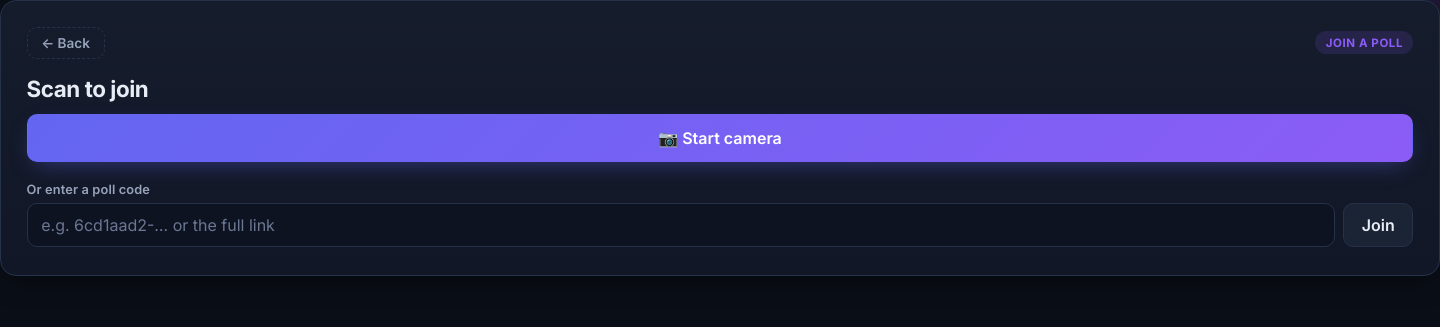
Test: ScanToJoin › shows an error (and keeps the fallback) when camera access is denied
What coordinates should you click on to do the following:
click the button "📷 Start camera"
I would click on:
 (720, 138)
Its box is [27,114,1413,162].
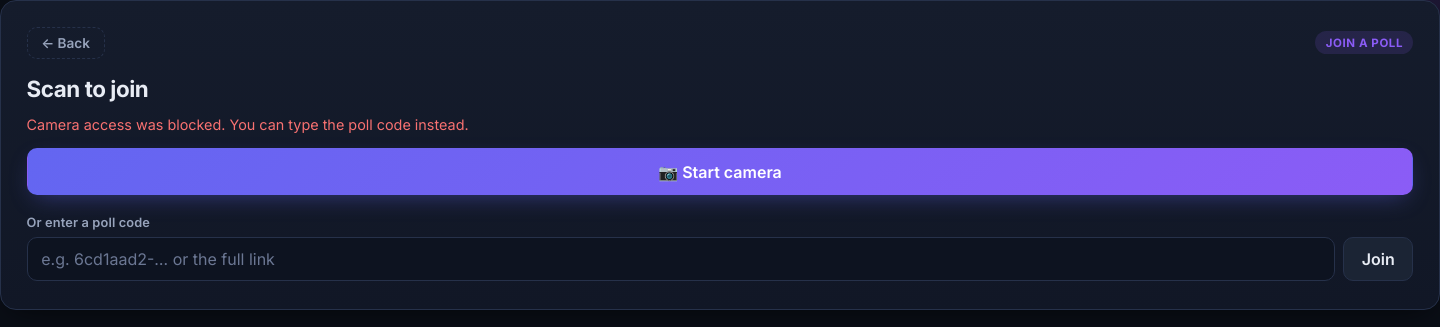
Expected: the field labelled "Or enter a poll code" is shown, [27,237,1335,281]
Result: the message shows "blocked" at [27,116,469,133]
